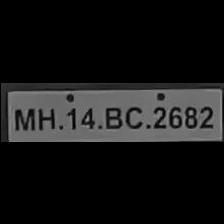1: (59, 103, 77, 130)
2: (147, 101, 167, 128), (197, 101, 215, 128)
4: (76, 102, 98, 130)
6: (165, 101, 183, 128)
8: (180, 102, 198, 128)
B: (100, 103, 122, 129)
C: (122, 101, 144, 128)
H: (34, 103, 56, 130)
M: (10, 105, 34, 131)
